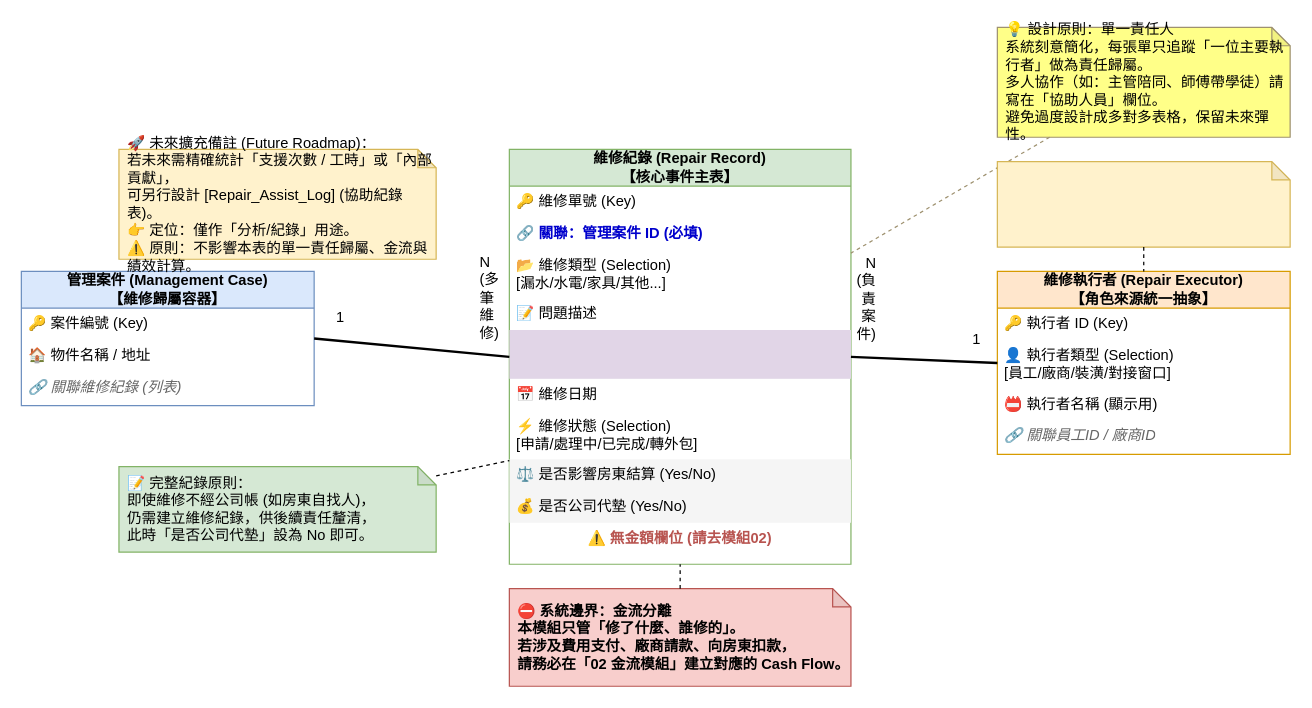
Image size: 1312x708. Some labels were removed from this diagram. The shapes that lost their labels are listed below. From the top down, each one's centre as x and y in pixels, then its label:
At point 1143,203: "🔄 外包原則： 若遇高風險工程 (如防水/結構)， 狀態請標示為「已轉外包」， 並將執行者連結至外部廠商 ID。".
At point 679,353: "👥 協助人員 / 備註說明 (Text) [紀錄協作同仁/支援師傅]".
